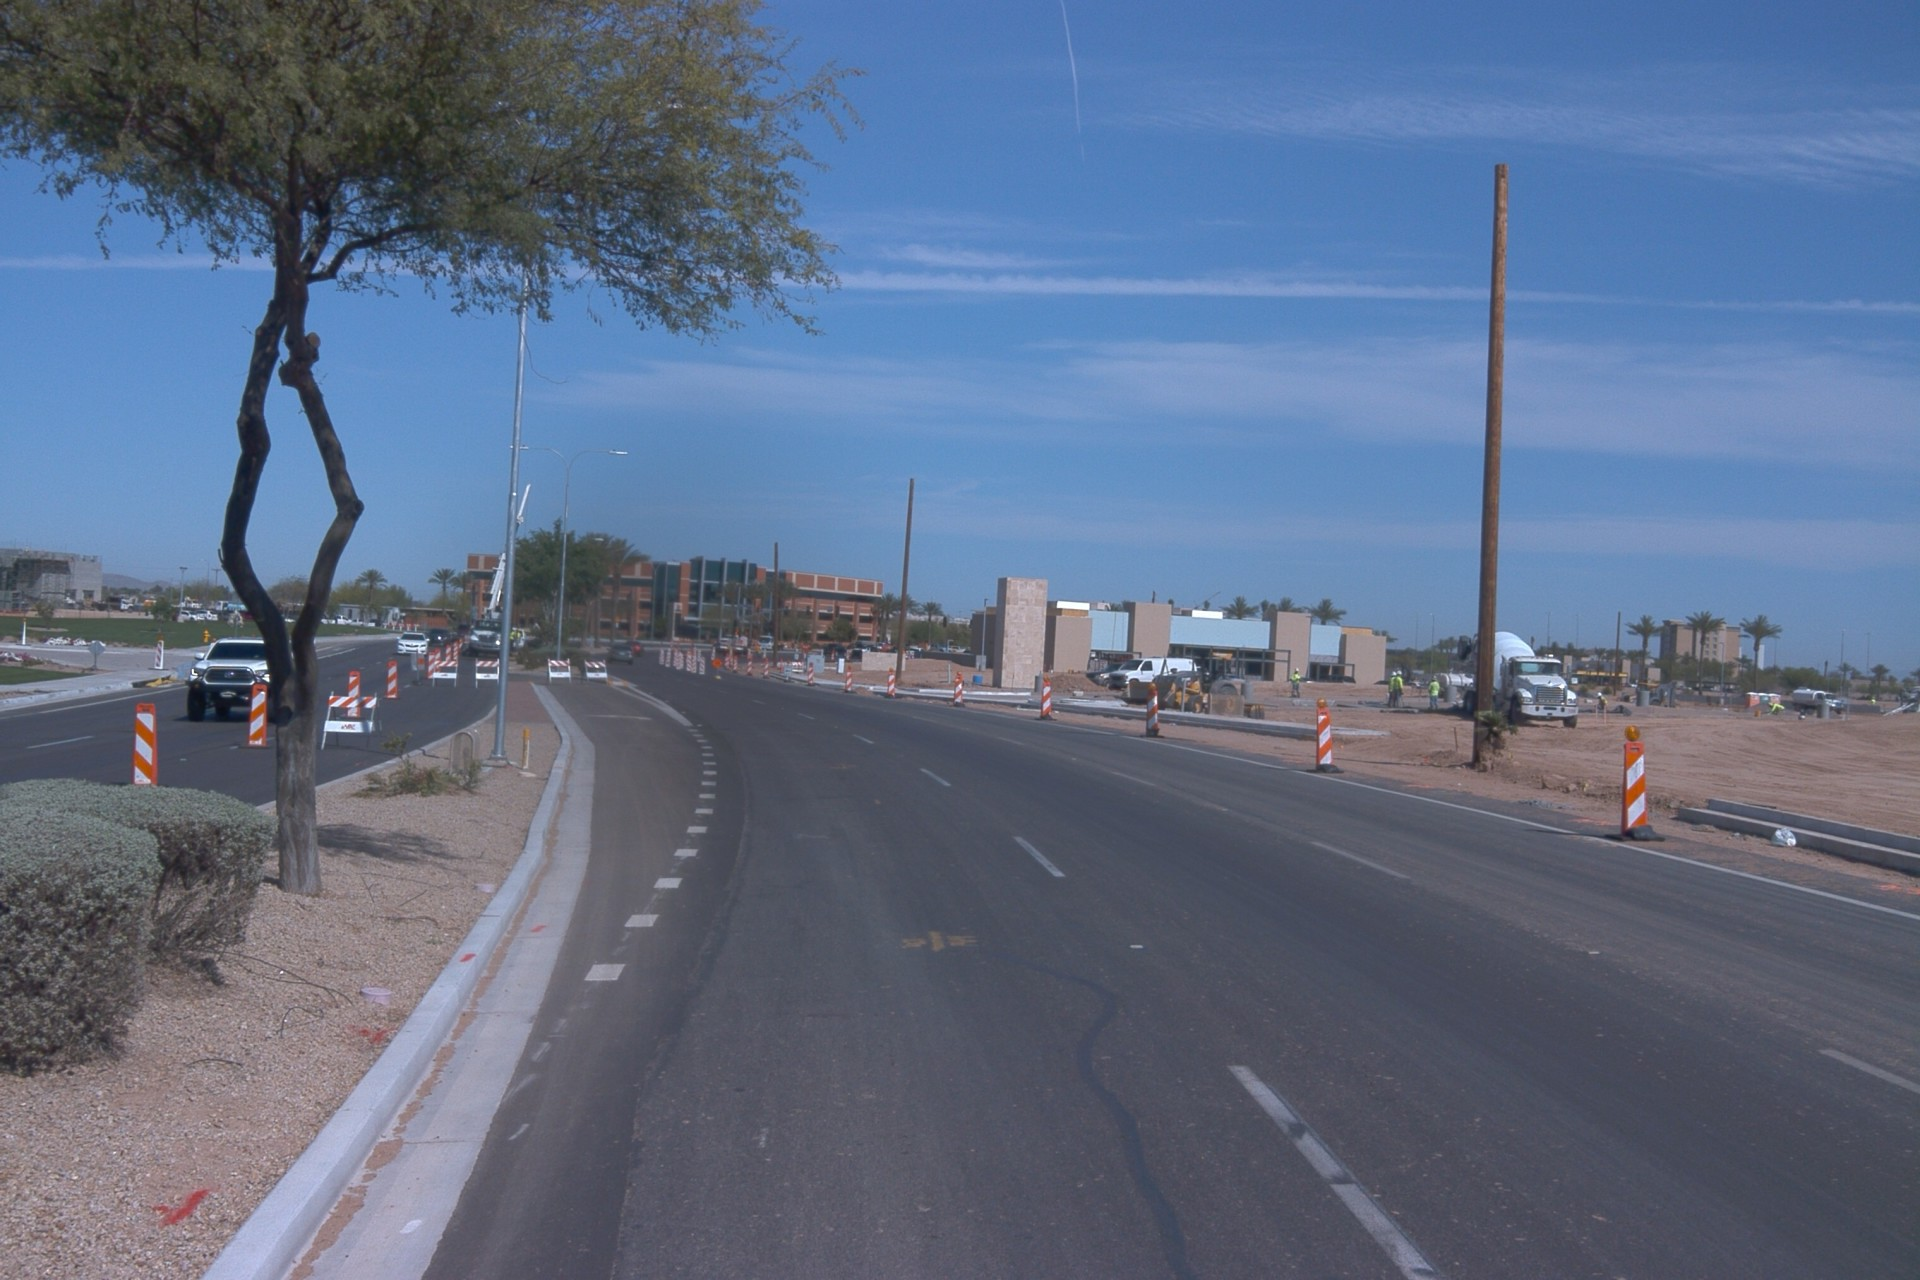TYPE_PEDESTRIAN: (1392, 670, 1406, 708), (1385, 670, 1399, 708), (1427, 677, 1441, 713), (1290, 668, 1303, 698), (1595, 692, 1611, 712), (510, 625, 518, 648), (516, 627, 523, 642), (757, 641, 764, 654)
TYPE_VEHICLE: (458, 481, 544, 661), (183, 640, 291, 723), (1107, 656, 1198, 689), (663, 624, 705, 674), (1791, 681, 1846, 714), (1622, 681, 1678, 711), (1084, 660, 1129, 691), (93, 591, 138, 617), (1435, 672, 1474, 701), (716, 628, 762, 652), (394, 629, 430, 655), (846, 643, 888, 662), (755, 627, 788, 651), (604, 643, 635, 667), (445, 619, 472, 645), (176, 609, 207, 624), (194, 606, 221, 623), (1196, 662, 1215, 686), (624, 640, 647, 656), (428, 630, 454, 644), (1317, 674, 1353, 684), (719, 635, 743, 648), (237, 608, 252, 626), (318, 617, 344, 627), (1301, 677, 1317, 686), (1406, 683, 1425, 690), (1371, 681, 1389, 687)
